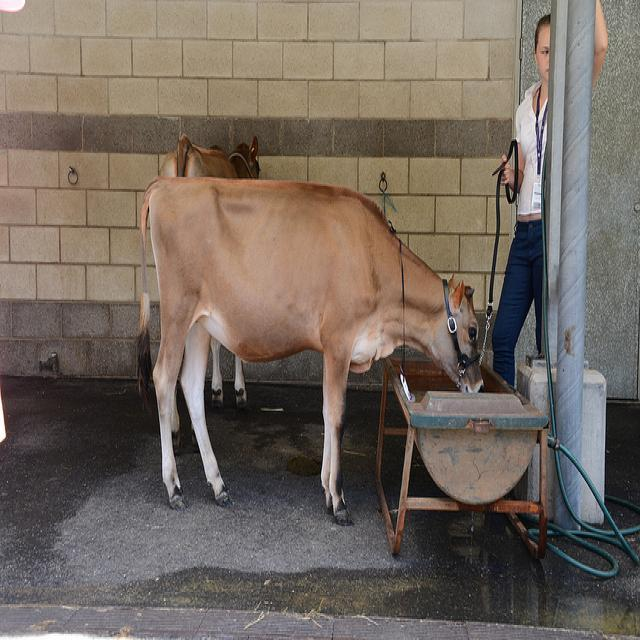cow: (130, 171, 487, 526), (161, 132, 257, 400)
